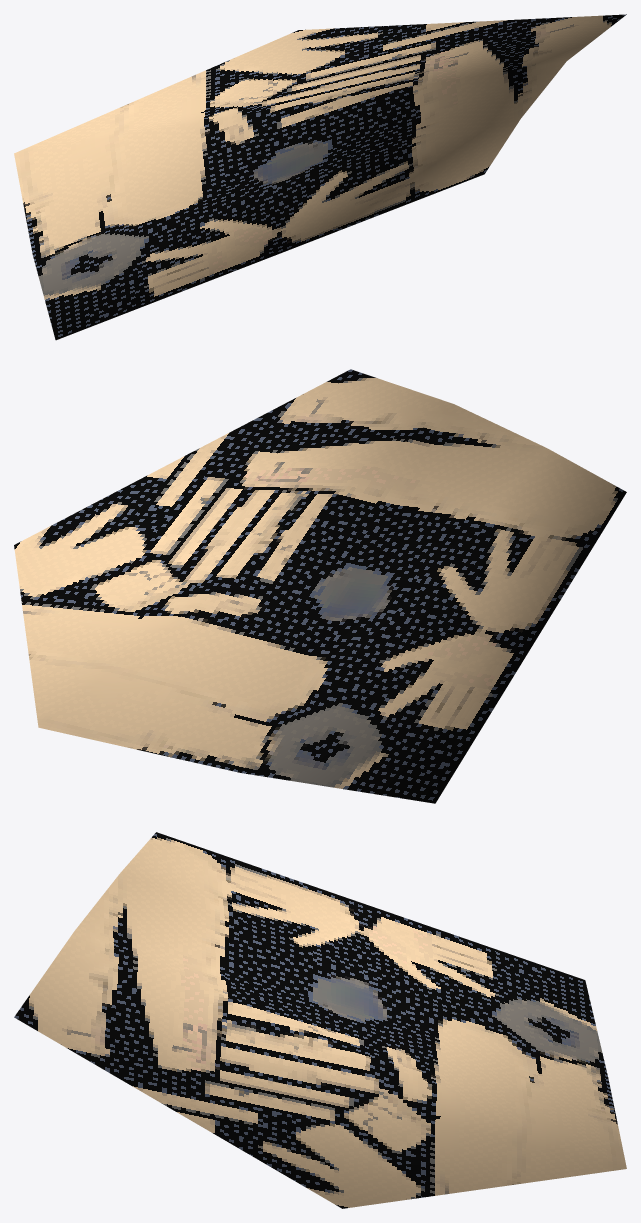
The picture shows the model from 3 angles, top to bottom: view 1: azimuth 90°, elevation 25°; view 2: azimuth 150°, elevation 25°; view 3: azimuth 270°, elevation 25°; orthographic projection. The views are drawn at different scales.
Visible parts, largest first — view 1: Cube.002; view 2: Cube.002; view 3: Cube.002.
Boxes of the visible parts, x1=… form: Cube.002: x1=14, y1=14, x2=626, y2=340; Cube.002: x1=14, y1=369, x2=626, y2=803; Cube.002: x1=14, y1=832, x2=626, y2=1208.
Size of the model in its own units: 0.0801 by 0.0236 by 0.077.
Materials: 1 (1 with a texture image).
